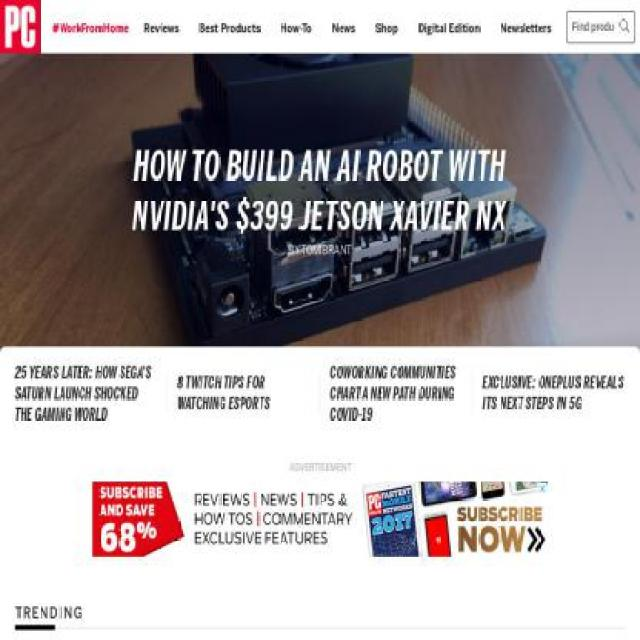button: (0, 0, 640, 442), (48, 6, 134, 54), (188, 6, 270, 54), (408, 6, 490, 54), (489, 6, 562, 54), (134, 6, 189, 54), (270, 6, 322, 54), (0, 0, 40, 54), (322, 6, 364, 54), (366, 6, 408, 54)
field: (567, 10, 635, 44)
